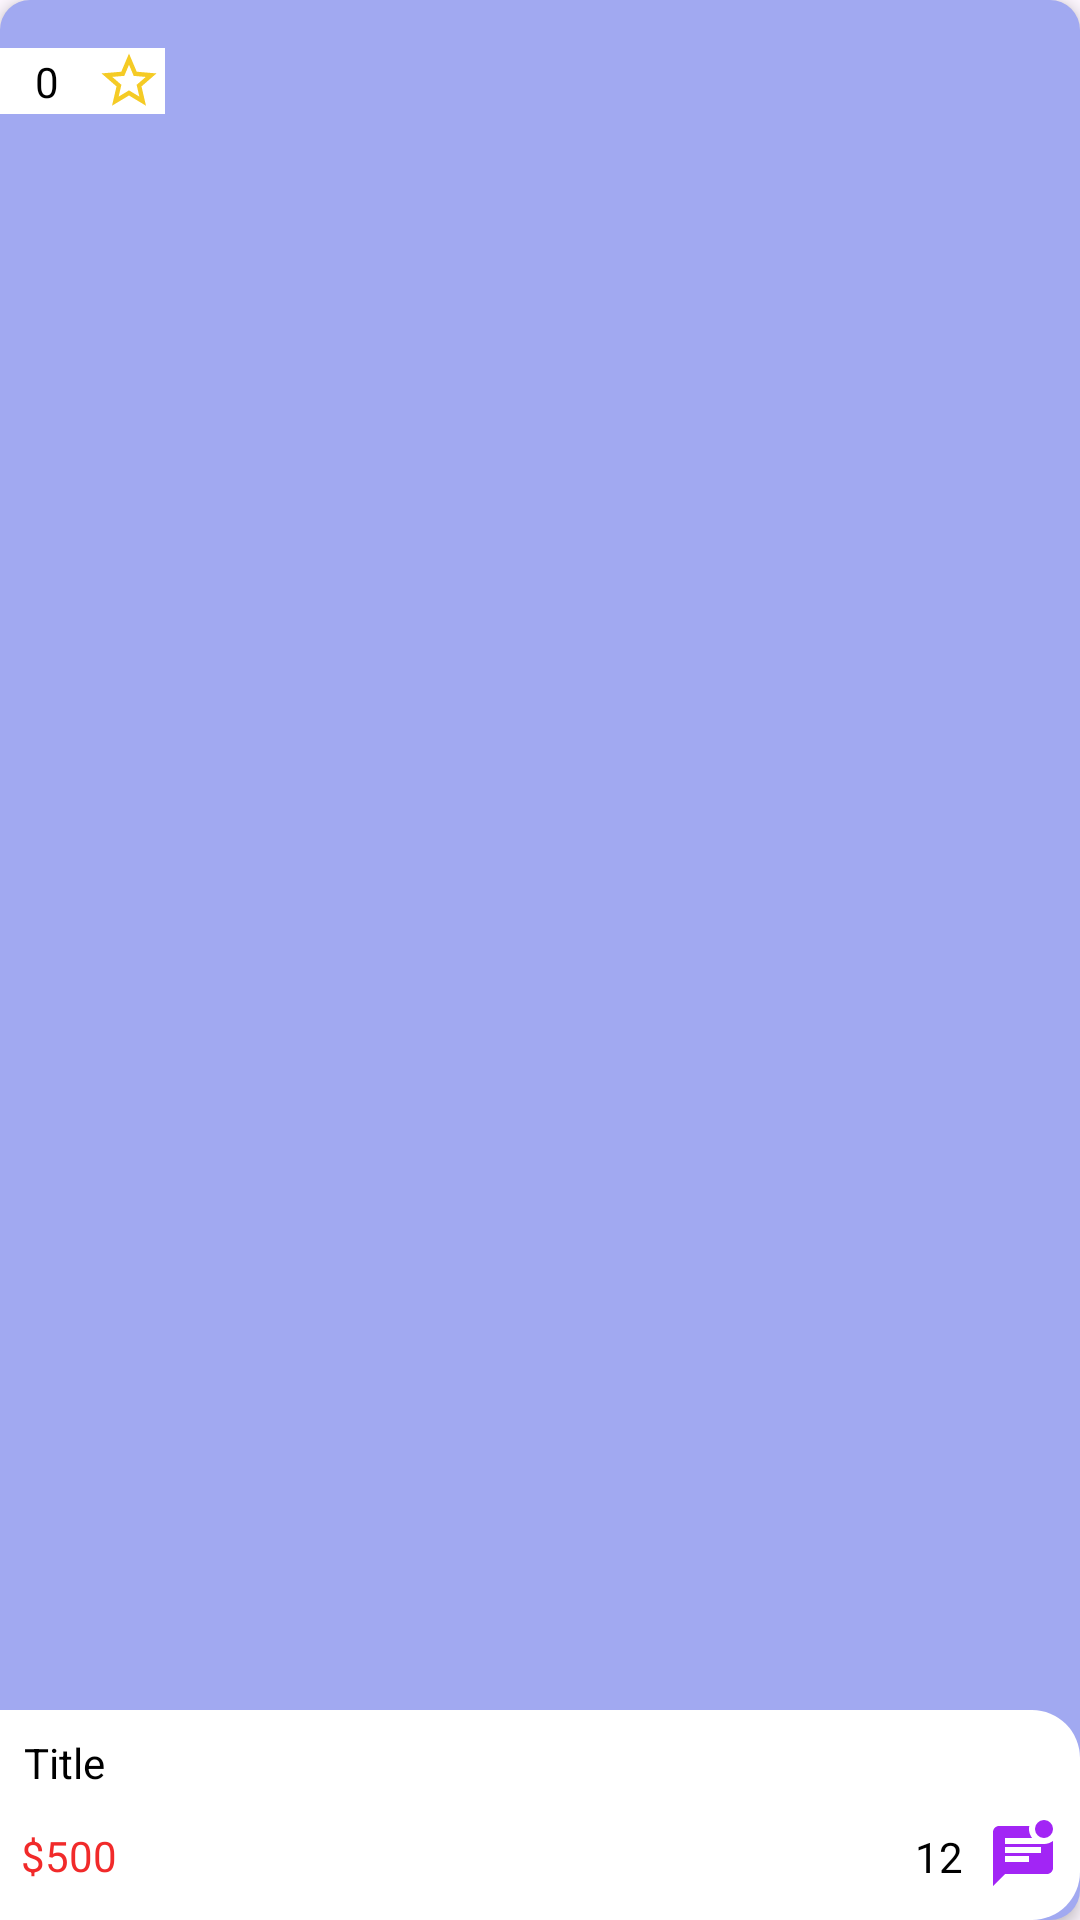

Named icons in this screenshot (1080w x 1920h) and their bounding boxes, (x1, y1, x2, y2):
mark unread chat: (993, 1820, 1053, 1886)
star border: (93, 48, 165, 114)
